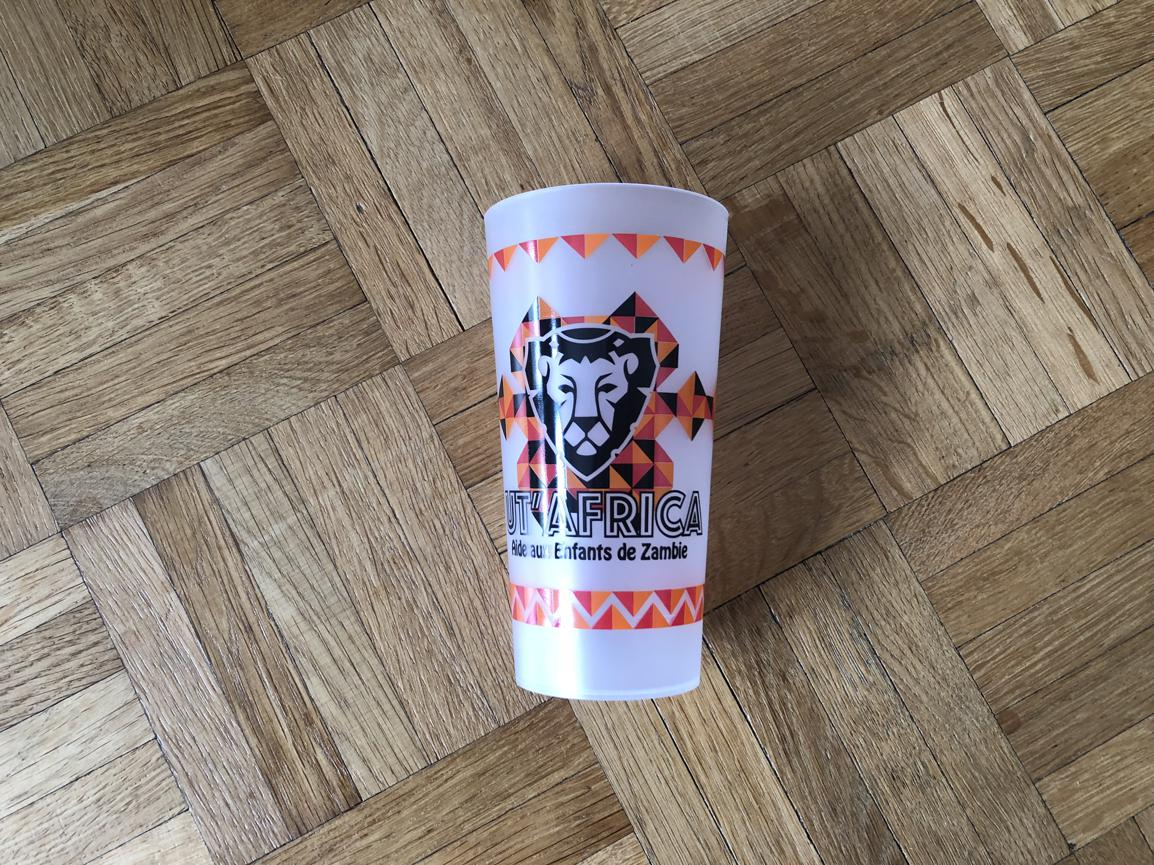ecocup: (483, 182, 728, 701)
